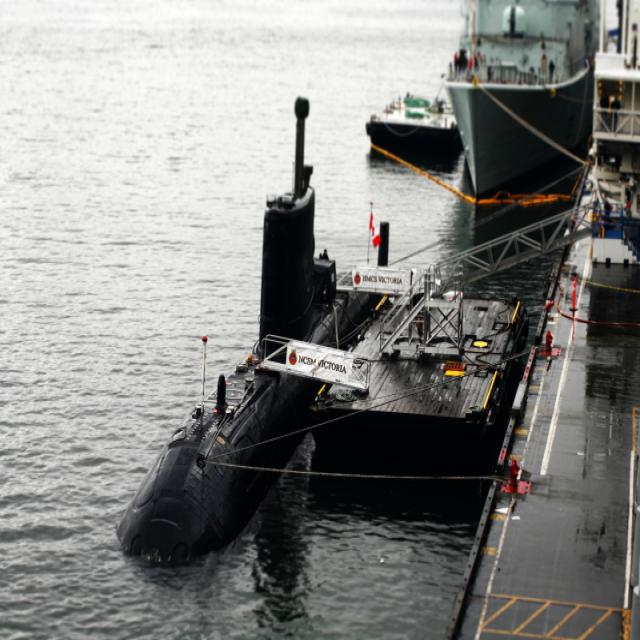submarine: (115, 75, 387, 557)
